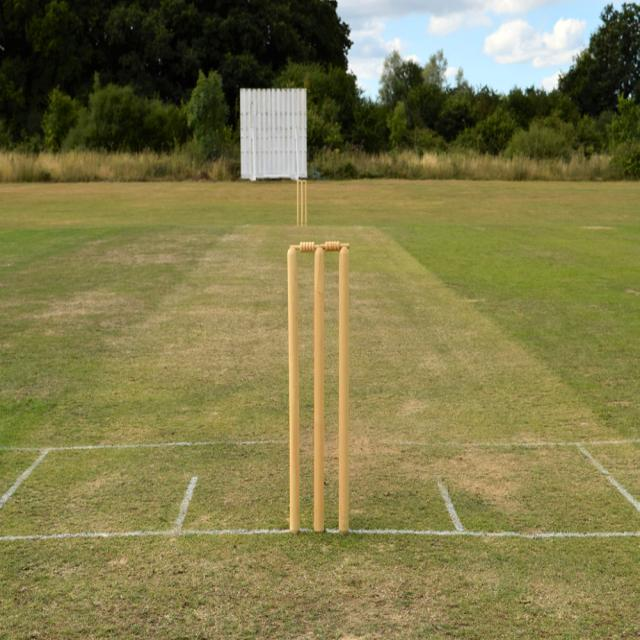stump: (287, 243, 349, 532), (295, 177, 308, 228)
